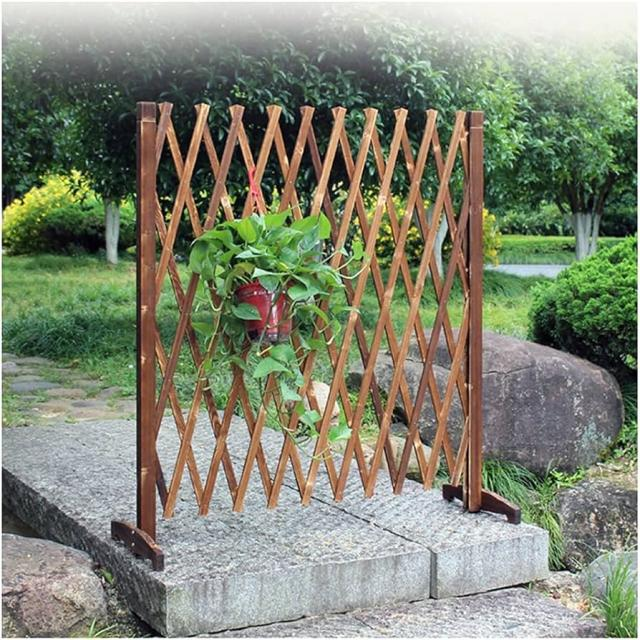Woods: (134, 102, 493, 536)
